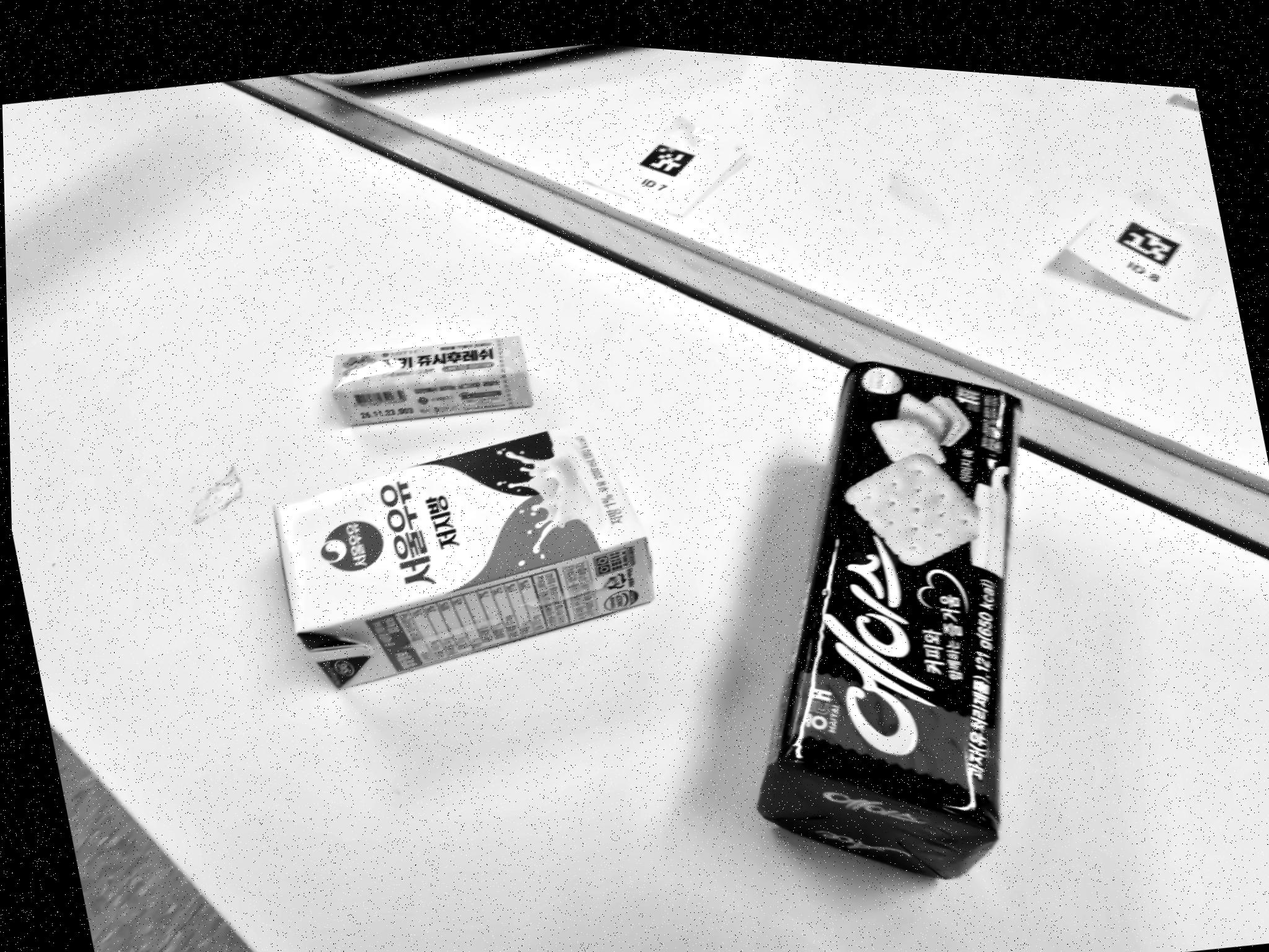cracker_ace: (759, 363, 1019, 877)
gum_yellow: (332, 336, 533, 425)
milk_blue: (276, 428, 653, 688)
